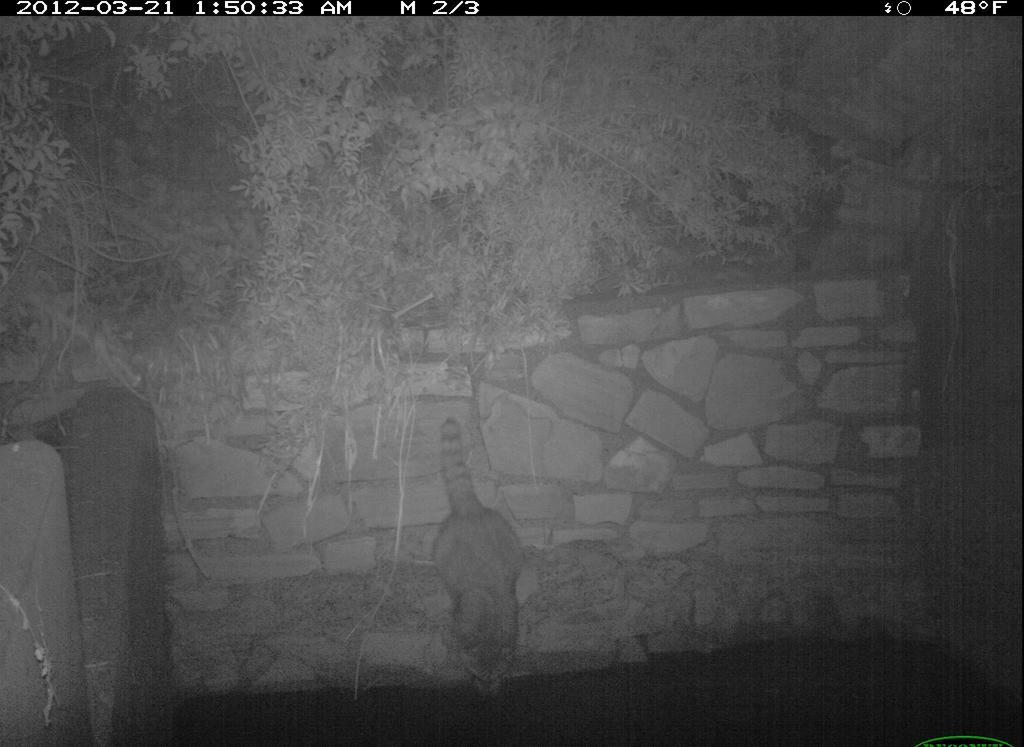raccoon: (423, 411, 534, 712)
